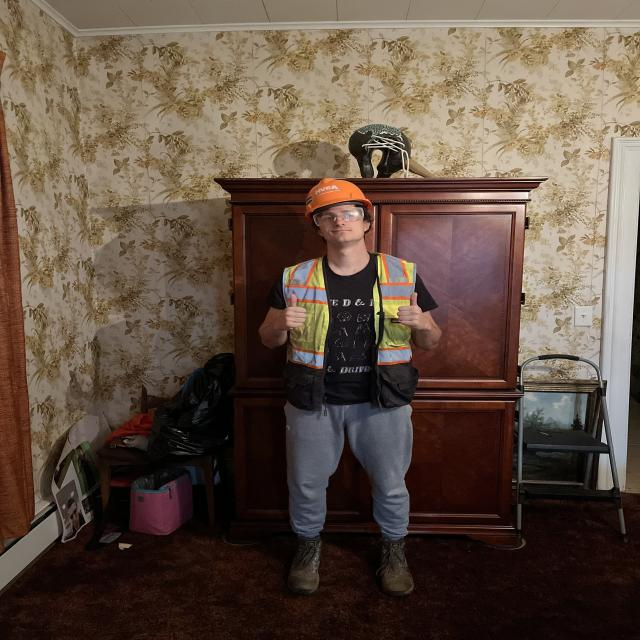Boots: (372, 533, 420, 598), (281, 534, 327, 597)
Hard Hat: (304, 180, 378, 218)
Reflective Vest: (275, 248, 418, 365)
Safety Glasses: (309, 206, 374, 227)
